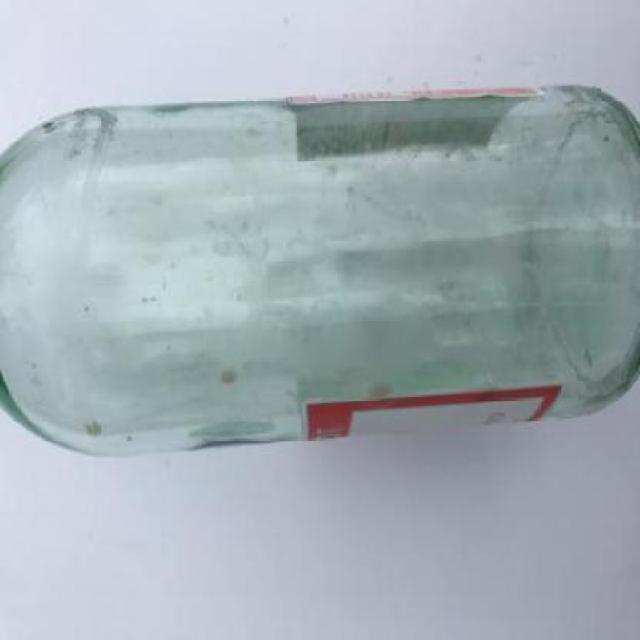trash: (2, 84, 640, 458)
